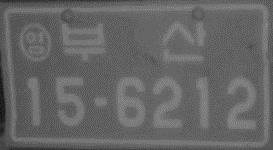-: (91, 94, 110, 107)
1: (24, 75, 45, 129), (193, 75, 213, 131)
2: (224, 75, 259, 131), (150, 75, 186, 129)
5: (52, 75, 88, 128)
6: (113, 75, 147, 128)
부산_D: (59, 18, 209, 65)
영: (18, 20, 53, 62)
